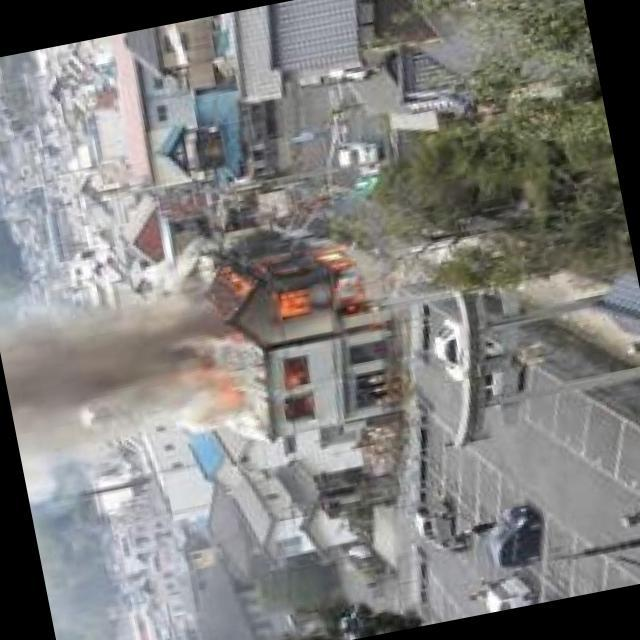Fire: (219, 231, 375, 332), (281, 352, 315, 391)
